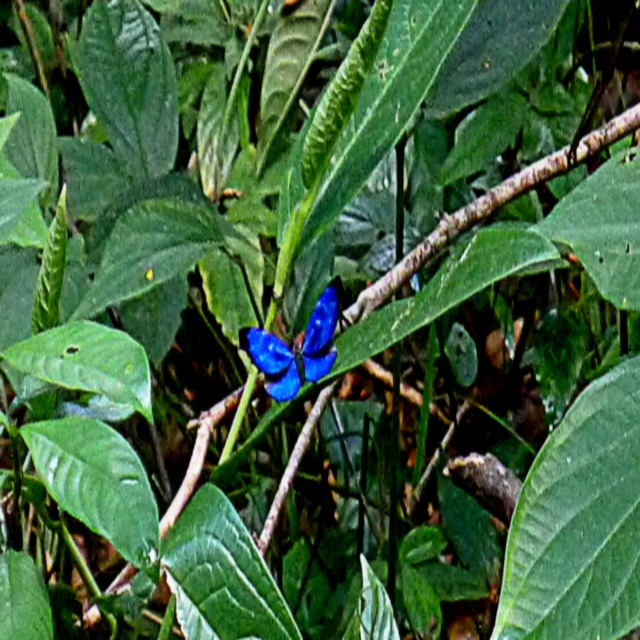Butterfly: (241, 273, 342, 404)
